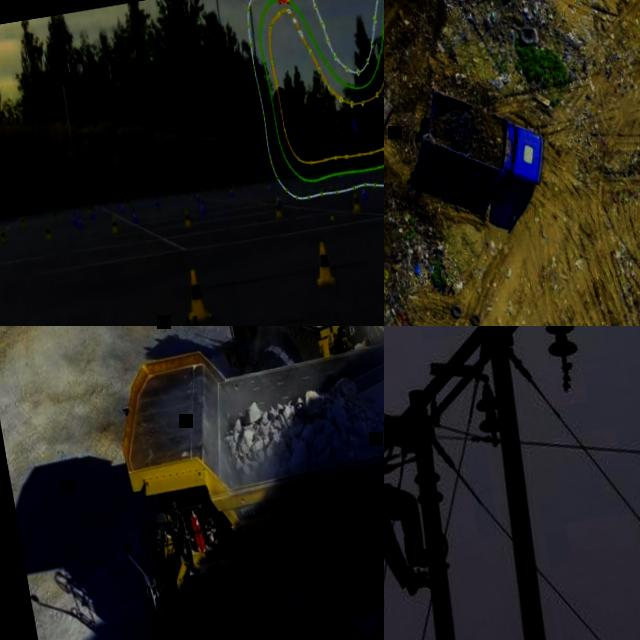Person: (384, 364, 435, 603)
Safety Cone: (177, 263, 212, 323), (308, 236, 337, 291), (349, 188, 363, 215), (272, 195, 285, 220), (180, 206, 193, 230), (108, 213, 120, 234), (128, 206, 140, 227), (359, 181, 370, 203), (43, 223, 54, 244), (197, 198, 207, 219), (76, 214, 86, 235), (0, 226, 9, 246)
vehicle: (85, 326, 384, 640), (194, 326, 384, 554), (414, 68, 554, 210), (384, 48, 428, 326)
